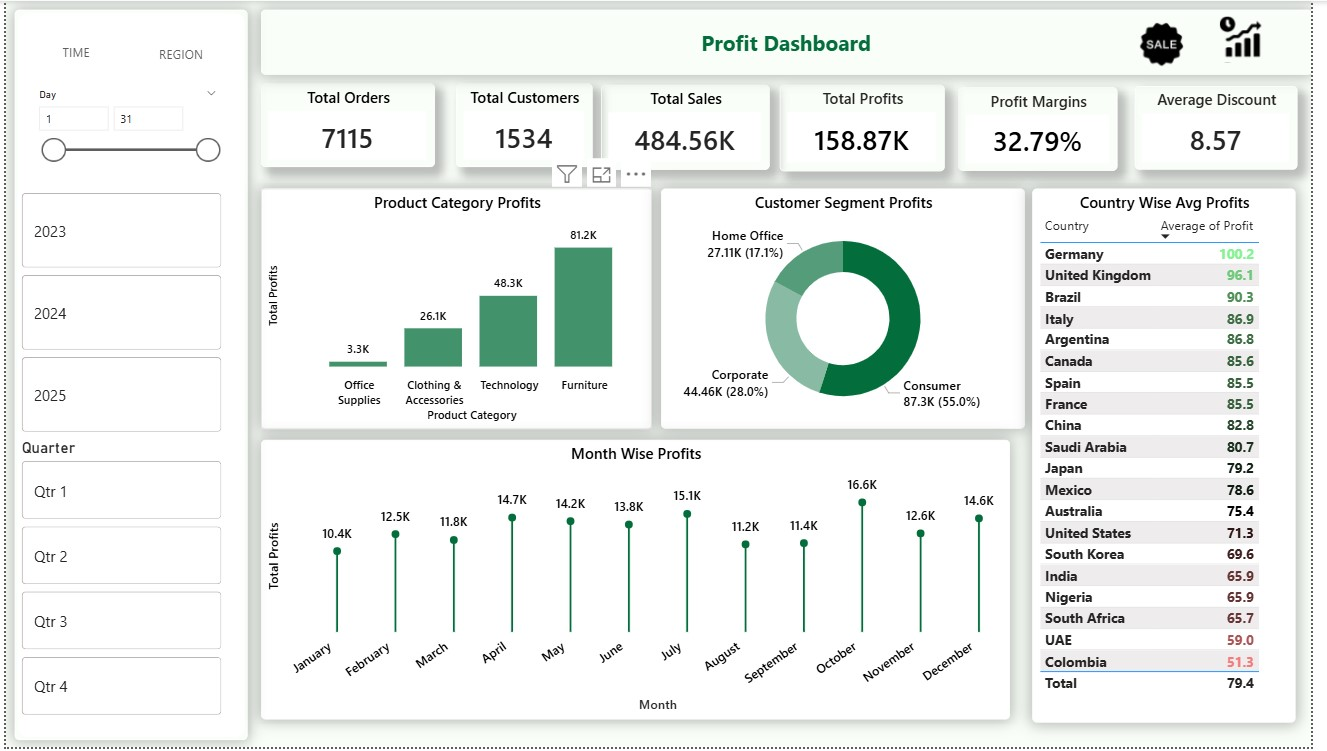

Layout of this report page (visuals, bound fields, positions):
{"tool":"powerbi","page":{"name":"Profits","canvas":[1400,800],"ordinal":1},"visuals":[{"type":"cardVisual","title":"Total Orders","fields":{"Data":["ecommerceSales.Total_Orders"]},"box":[273.5,88.5,186.3,89.8],"z":0},{"type":"cardVisual","title":"Total Customers","fields":{"Data":["ecommerceSales.Total_Customers"]},"box":[482.6,88.5,146.1,89.8],"z":1000},{"type":"cardVisual","title":"Total Sales","fields":{"Data":["ecommerceSales.Total_Sale"]},"box":[638.1,89.8,181,91.2],"z":2000},{"type":"cardVisual","title":"Total Profits","fields":{"Data":["ecommerceSales.Total_Profits"]},"box":[829.8,89.8,176.9,92.5],"z":3000},{"type":"clusteredColumnChart","title":" Product Category Profits","fields":{"Category":["ecommerceSales.Product_Category"],"Y":["ecommerceSales.Total_Profits"]},"box":[272.9,201.5,419.5,258],"z":4000},{"type":"cardVisual","title":"Profit Margins","fields":{"Data":["ecommerceSales.Profit Margins"]},"box":[1021.5,92.5,170.2,89.8],"z":5000},{"type":"donutChart","title":" Customer Segment Profits","fields":{"Category":["ecommerceSales.Customer_Segment"],"Y":["ecommerceSales.Total_Profits"]},"box":[702.4,201.1,390.1,257.4],"z":6000},{"type":"lineChart","title":" Month Wise Profits","fields":{"Category":["ecommerceSales.Order_Date.Variation.Date Hierarchy.Month"],"Y":["ecommerceSales.Total_Profits"]},"box":[273.5,470.5,803,300.3],"z":7000},{"type":"shape","title":"Sales Dashboard","box":[272.9,9.5,1126.9,69.2],"z":8000},{"type":"actionButton","box":[1298.1,9.5,57.6,64.3],"z":9000,"group":"g1"},{"type":"actionButton","box":[1211,16.2,57.6,60.3],"z":11000,"group":"g1"},{"type":"cardVisual","title":"Average Discount","fields":{"Data":["ecommerceSales.Avg_Discount"]},"box":[1210.5,91.2,174.3,89.8],"z":12000},{"type":"tableEx","title":"Country Wise Avg Profits","fields":{"Values":["ecommerceSales.Country","Avg(ecommerceSales.Profit)"]},"box":[1101.1,200.9,282.4,572.9],"z":13000},{"type":"shape","box":[9.5,9.5,249.8,783.4],"z":14000},{"type":"advancedSlicerVisual","fields":{"Values":["ecommerceSales.Order_Date.Variation.Date Hierarchy.Year"]},"box":[12.7,200.9,224.6,268.9],"z":15000},{"type":"advancedSlicerVisual","fields":{"Values":["ecommerceSales.Order_Date.Variation.Date Hierarchy.Quarter"]},"box":[12.7,469.7,224.6,302.1],"z":15001},{"type":"slicer","fields":{"Values":["ecommerceSales.Order_Date.Variation.Date Hierarchy.Day"]},"box":[22.1,88.6,215.1,109.1],"z":15002},{"type":"actionButton","title":"Time","box":[25.3,34.8,99.6,39.5],"z":15003},{"type":"actionButton","title":"Region","box":[137.6,36.4,99.6,39.5],"z":15004},{"type":"group","id":"g1","title":"Group 1","box":[1211,9.5,145.3,66.5],"z":15006}]}

Visuals, with their boxes in screenshot pixels (x1, y1, x2, y2), scaled from the page's 1400x800 canvas onto the 1327x751 screenshot:
"Total Orders" cardVisual: box(259, 83, 436, 167)
"Total Customers" cardVisual: box(457, 83, 596, 167)
"Total Sales" cardVisual: box(605, 84, 776, 170)
"Total Profits" cardVisual: box(787, 84, 954, 171)
" Product Category Profits" clusteredColumnChart: box(259, 189, 656, 431)
"Profit Margins" cardVisual: box(968, 87, 1130, 171)
" Customer Segment Profits" donutChart: box(666, 189, 1036, 430)
" Month Wise Profits" lineChart: box(259, 442, 1020, 724)
"Sales Dashboard" shape: box(259, 9, 1326, 74)
actionButton: box(1230, 9, 1285, 69)
actionButton: box(1148, 15, 1202, 72)
"Average Discount" cardVisual: box(1147, 86, 1313, 170)
"Country Wise Avg Profits" tableEx: box(1044, 189, 1311, 726)
shape: box(9, 9, 246, 744)
advancedSlicerVisual - ecommerceSales.Order_Date.Variation.Date Hierarchy.Year: box(12, 189, 225, 441)
advancedSlicerVisual - ecommerceSales.Order_Date.Variation.Date Hierarchy.Quarter: box(12, 441, 225, 725)
slicer - ecommerceSales.Order_Date.Variation.Date Hierarchy.Day: box(21, 83, 225, 186)
"Time" actionButton: box(24, 33, 118, 70)
"Region" actionButton: box(130, 34, 225, 71)
"Group 1" group: box(1148, 9, 1286, 71)
